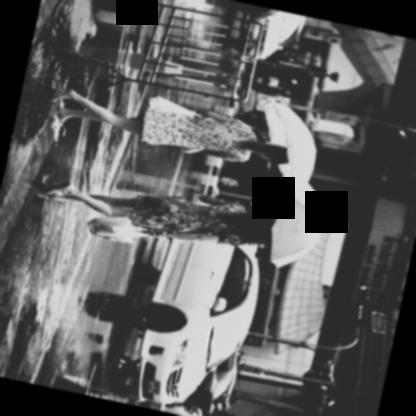handbag: (85, 216, 148, 244), (146, 95, 202, 118), (177, 146, 203, 152)
